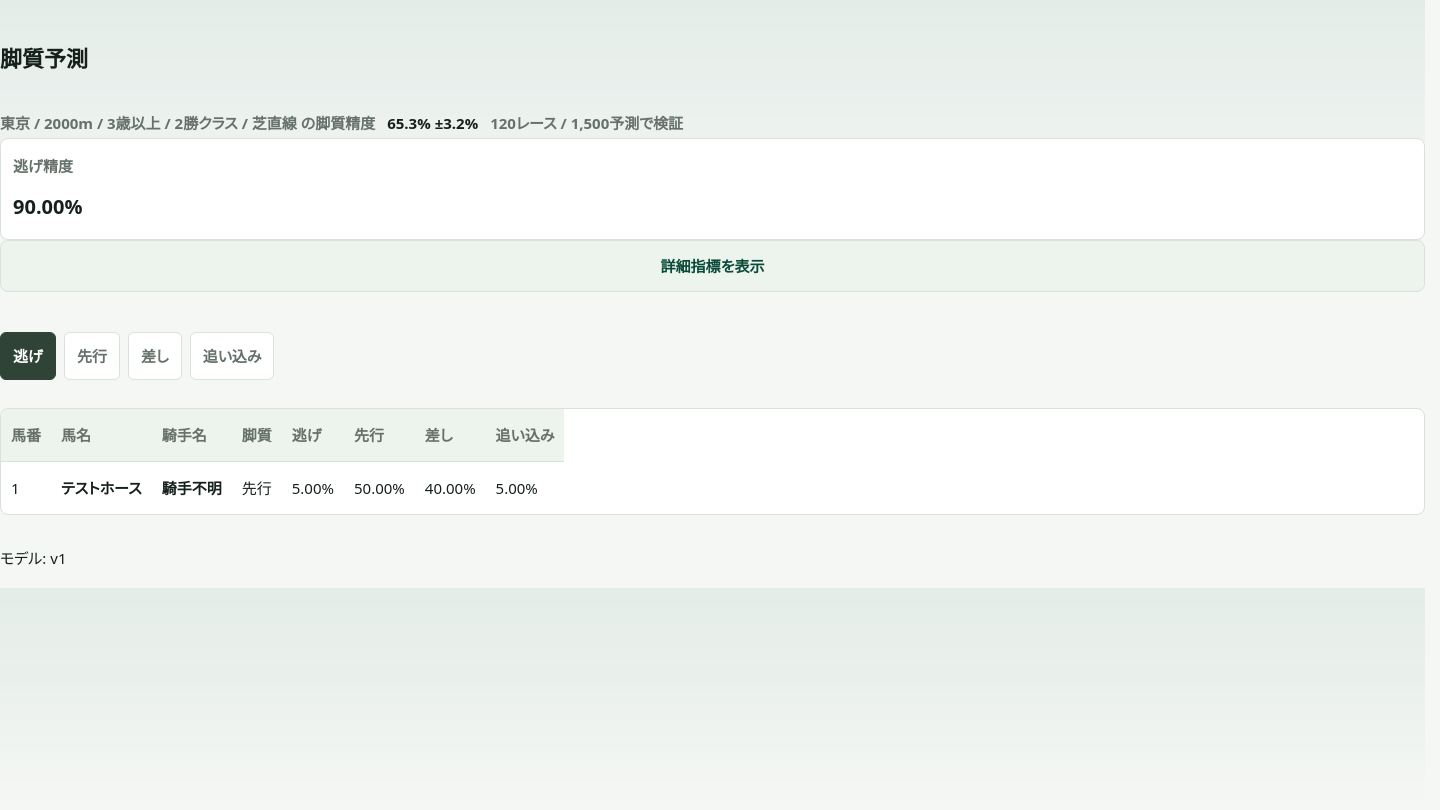
RunningStyleBucketEvaluationPanel - rendering › opens the details element after clicking the summary and exposes weighted-F1 label
Click the heading "詳細指標を表示" at (712, 266), box [0,240,1425,292]
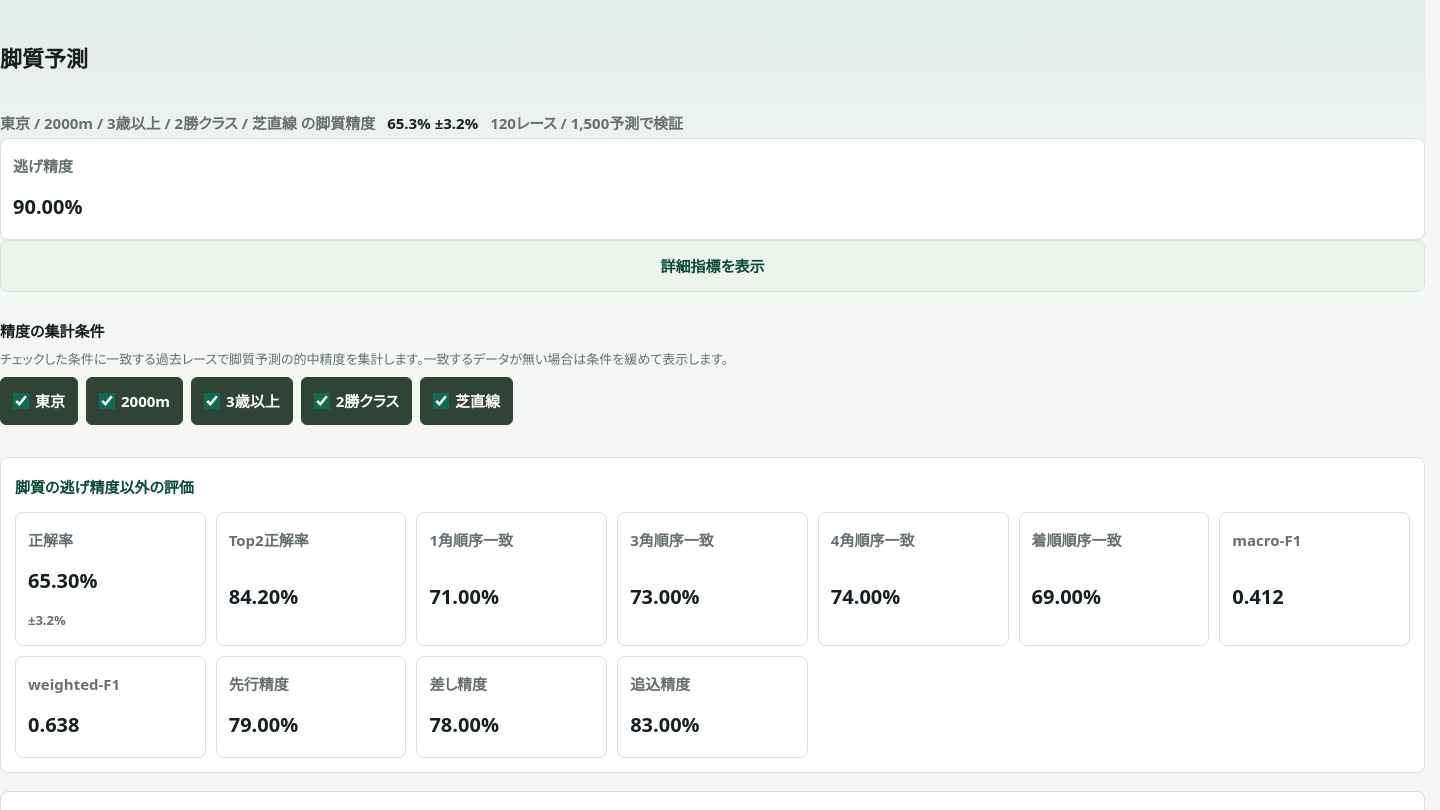
Check: the text "weighted-F1" is shown, box [28,674,120,694]
